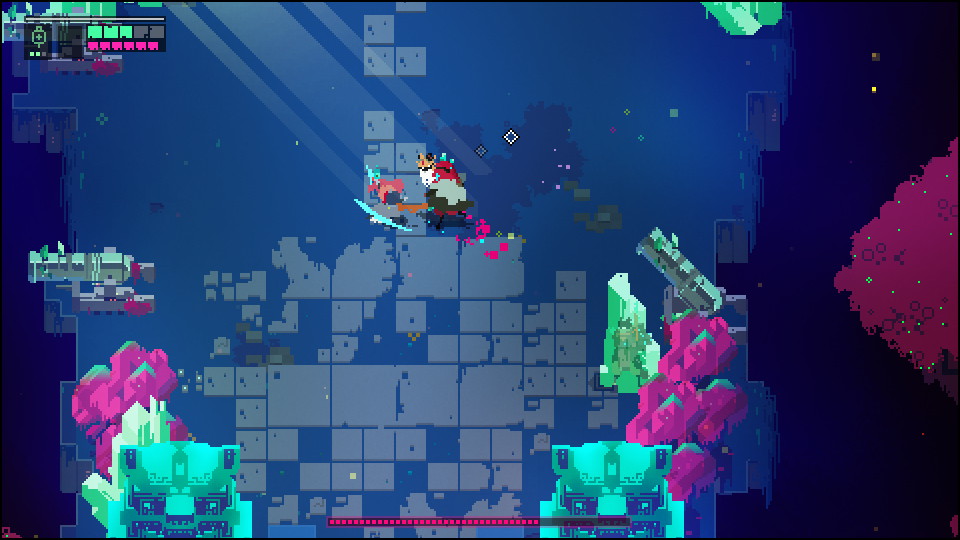hanged_man: (397, 151, 478, 228)
player: (358, 162, 410, 235)
